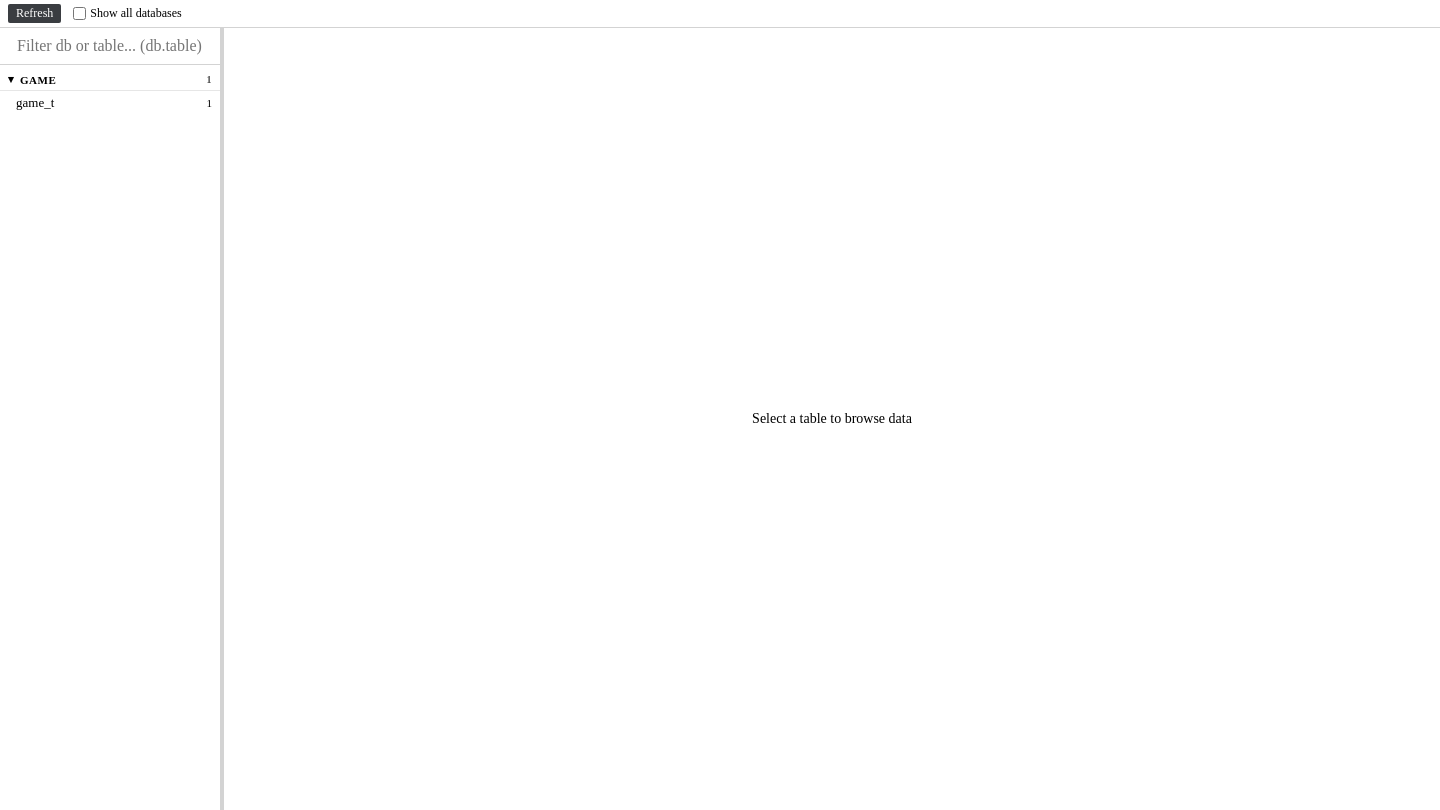
DatabaseBrowser › 系统库默认隐藏可切出; 配了 Database 只列它, 可切到全部; 库分组可折叠, 有过滤词时展开
Expected: the text "shop" is not shown
Expected: the text "Show system databases" is not shown
Click the checkbox labelled "Show all databases" at {"x": 80, "y": 14}, box [73, 7, 86, 20]
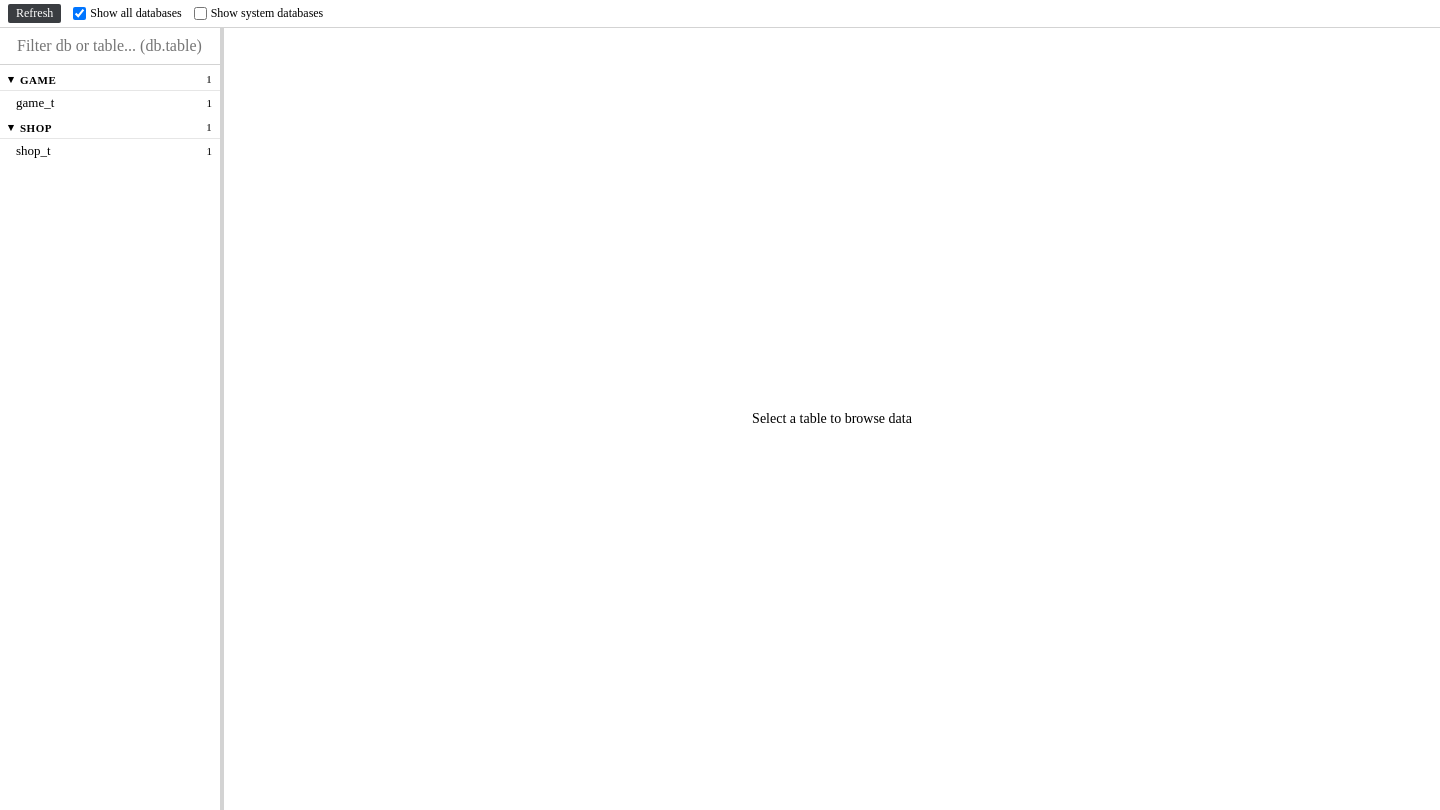
Expected: the text "mysql" is not shown
Result: the text "shop" is shown at [20, 122, 52, 134]
Click the checkbox labelled "Show system databases" at {"x": 200, "y": 14}, box [194, 7, 207, 20]
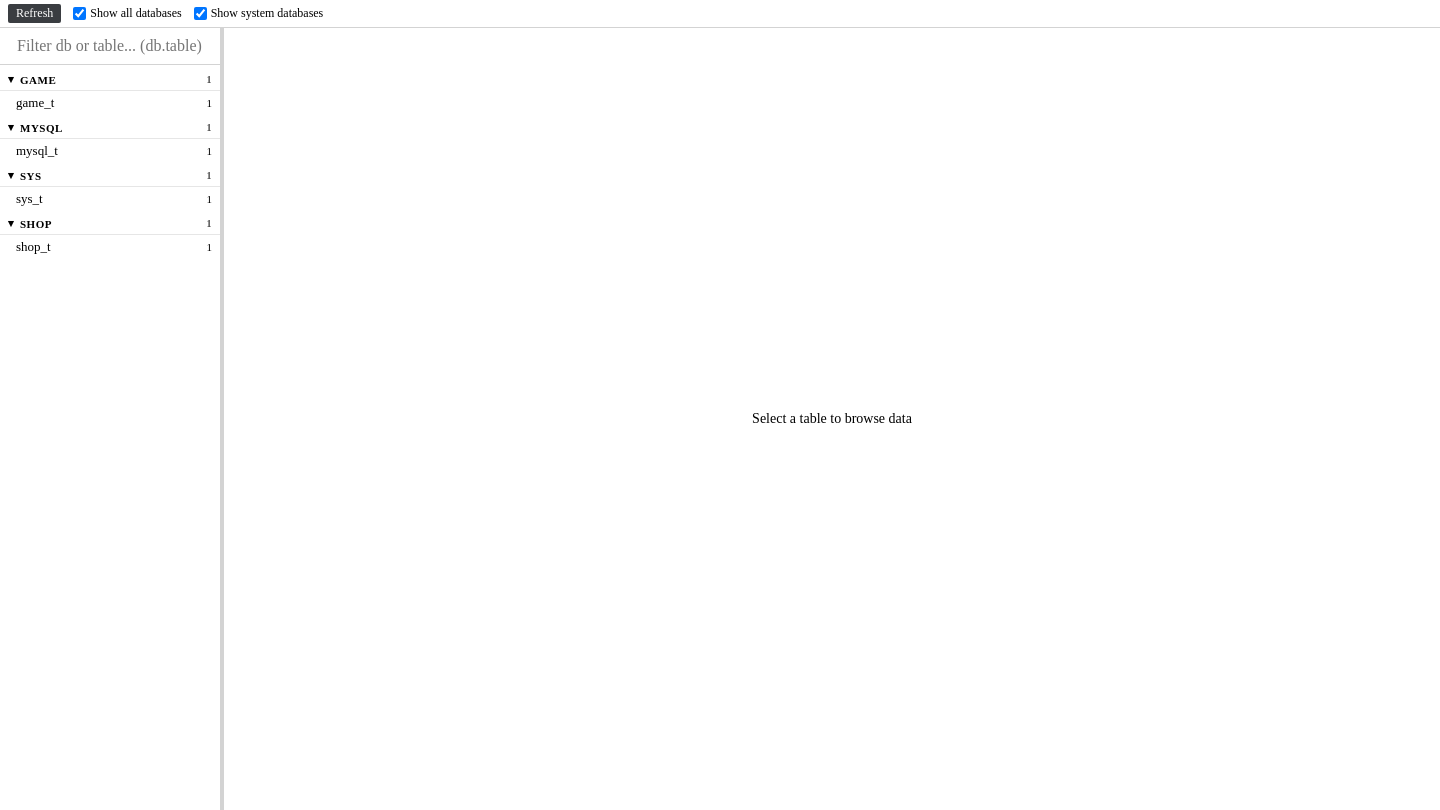
Result: the text "mysql" is shown at [20, 122, 63, 134]
Click the text "shop" at {"x": 36, "y": 224}, box [20, 218, 52, 230]
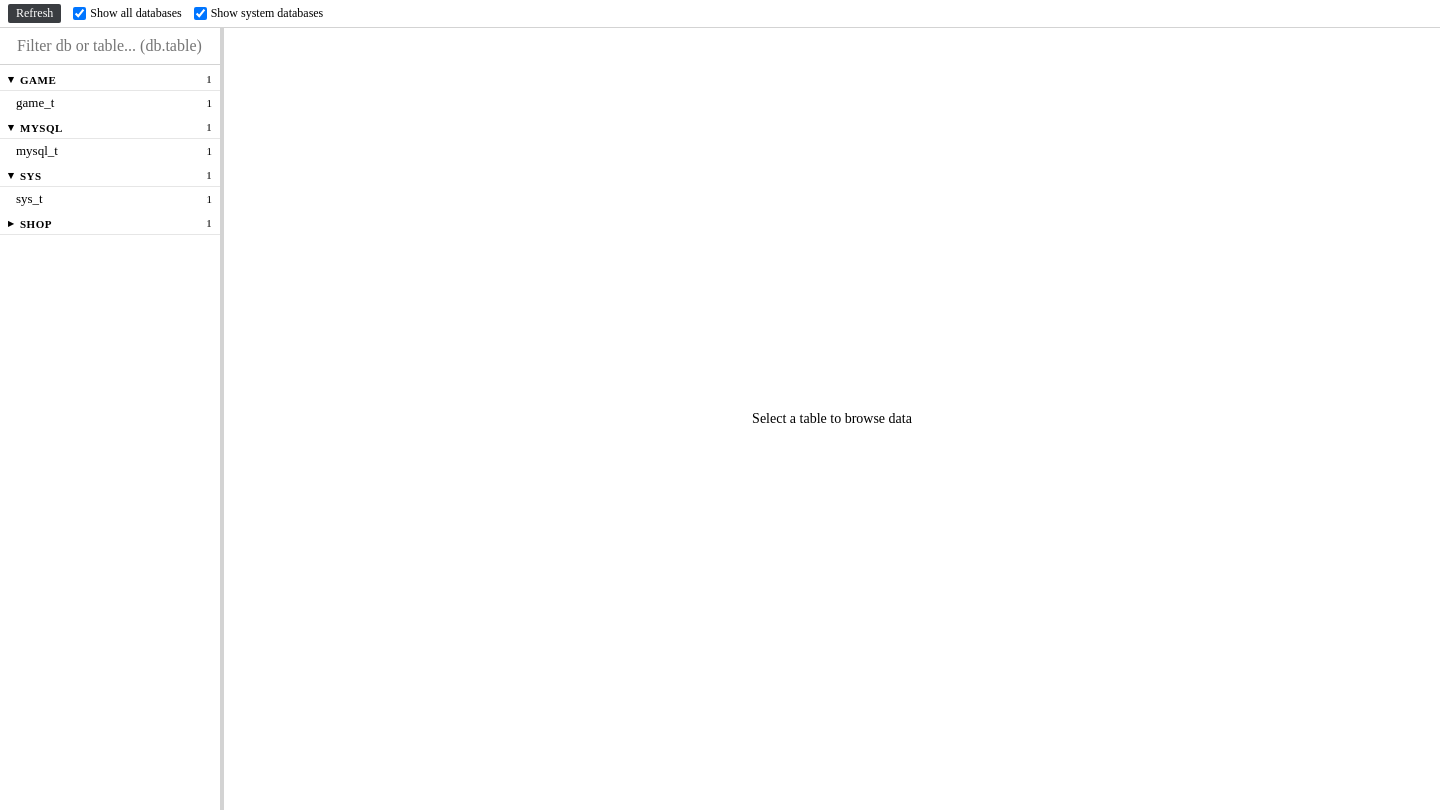
Result: the text "shop_t" is gone
Type "shop" into the field with placeholder "Filter db or table... (db.table)" at {"x": 110, "y": 46}, box [8, 32, 212, 60]
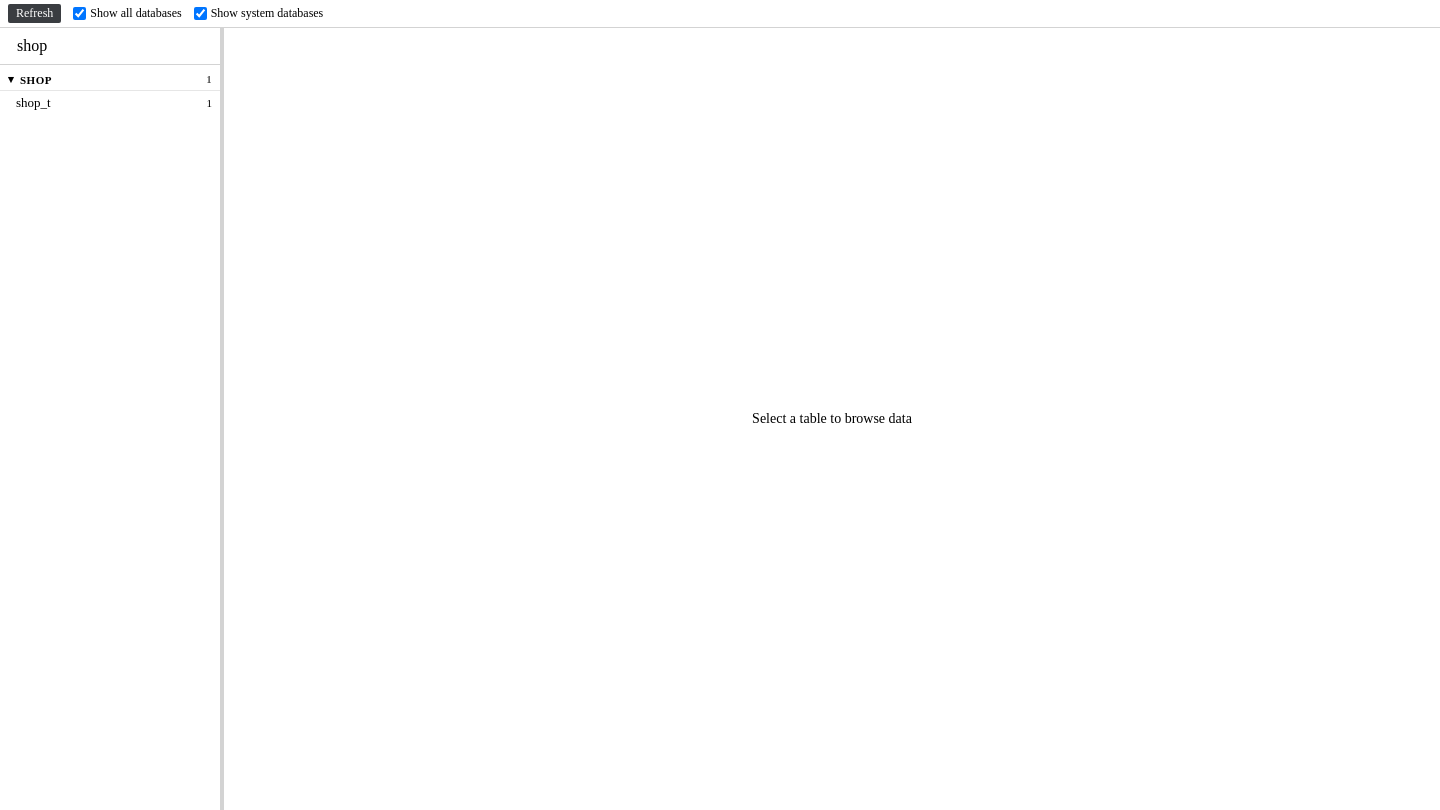
Result: the text "shop_t" is shown at [16, 95, 51, 110]
